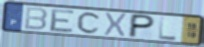B: (23, 6, 49, 31)
C: (76, 11, 103, 35)
E: (49, 8, 77, 33)
L: (158, 16, 178, 42)
P: (126, 13, 157, 39)
X: (103, 11, 129, 38)
